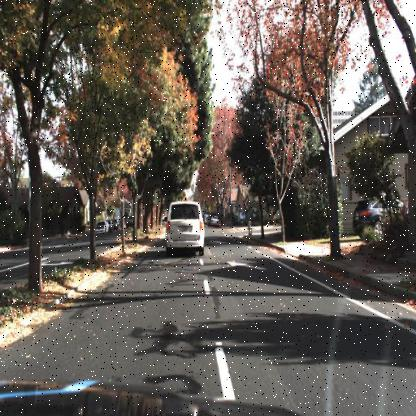car: (350, 187, 408, 243), (160, 194, 210, 258), (93, 217, 109, 236), (96, 218, 109, 236)
